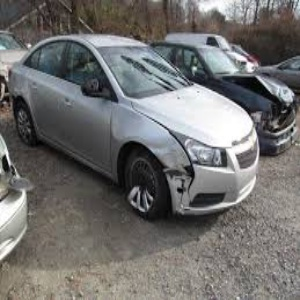bumper: (164, 162, 210, 217)
